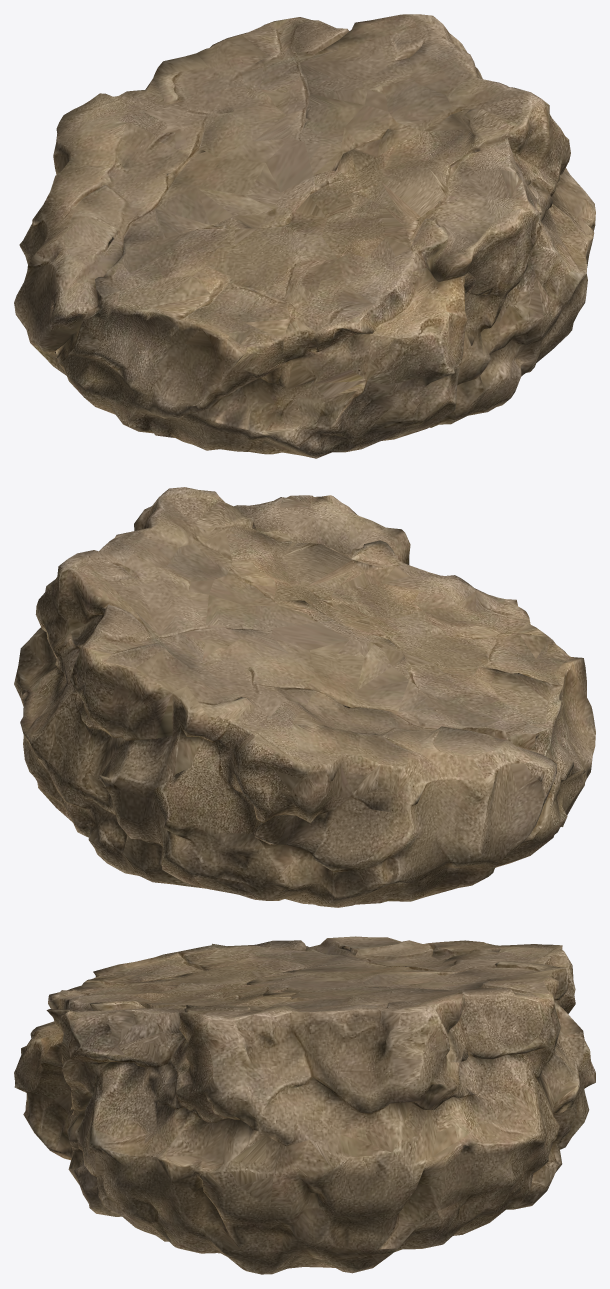
The model's file is boulder.glb.
3 renders of one model, top to bottom at view 1: azimuth 30°, elevation 25°; view 2: azimuth 150°, elevation 25°; view 3: azimuth 270°, elevation 25°, orthographic.
Visible parts, largest first — view 1: boulder; view 2: boulder; view 3: boulder.
Part boxes in pixels (x1,y1,x2,y2): boulder: [14, 14, 595, 458]; boulder: [14, 487, 595, 907]; boulder: [14, 936, 595, 1274].
Bounding box in the file's own units: 0.9728 × 0.4877 × 0.9816.
1 material, 1 textured.
